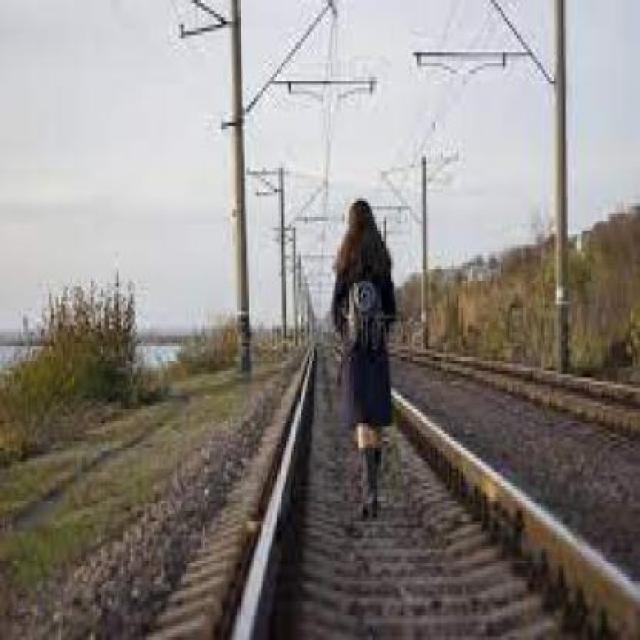danger: (324, 193, 401, 553)
rail: (147, 318, 637, 640)
